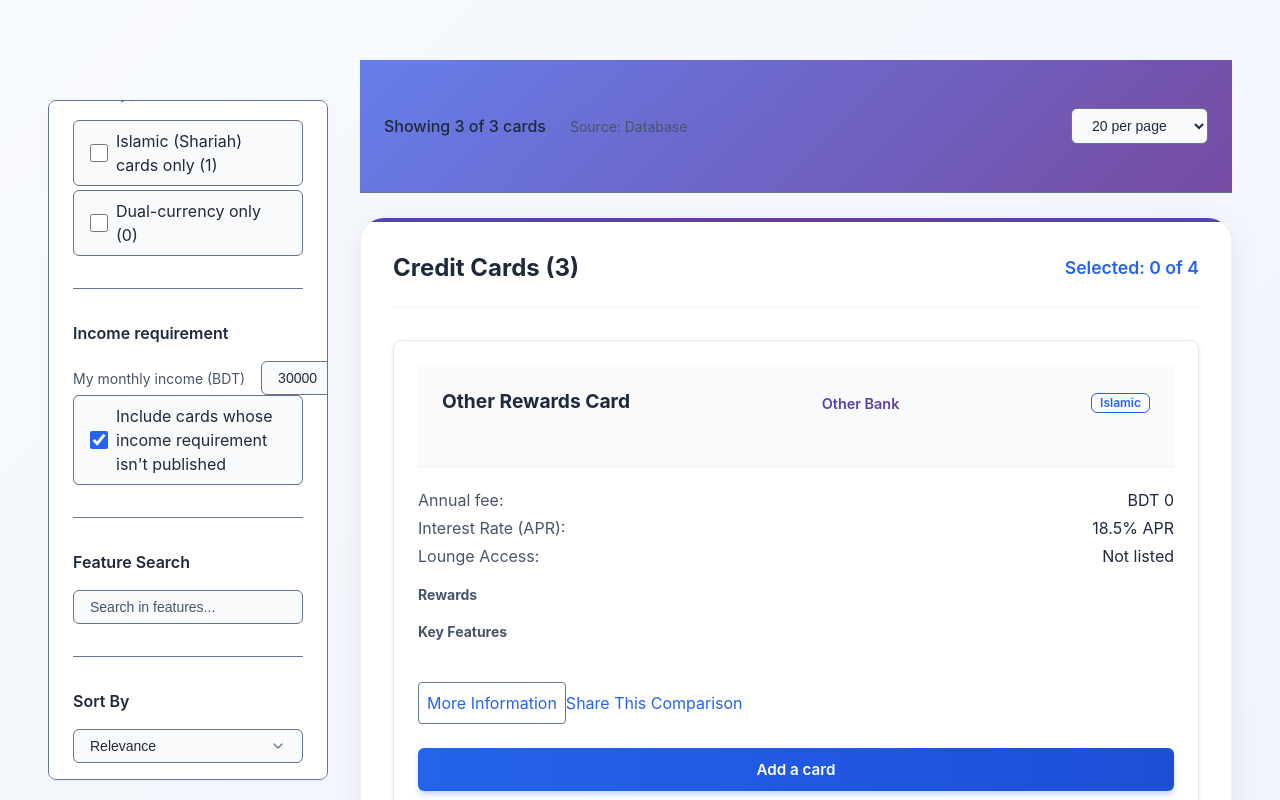
it: AdvancedSearchPage › card network, Islamic, dual-currency and income filters › filters by income and honors the include-unknown checkbox
The width and height of the screenshot is (1280, 800).
(page scrolled)
Check: the heading "Other Rewards Card" is shown, box [442,389,630,414]
Click the checkbox labelled "Include cards whose income requirement isn't published": (99, 440) [90,431,108,449]
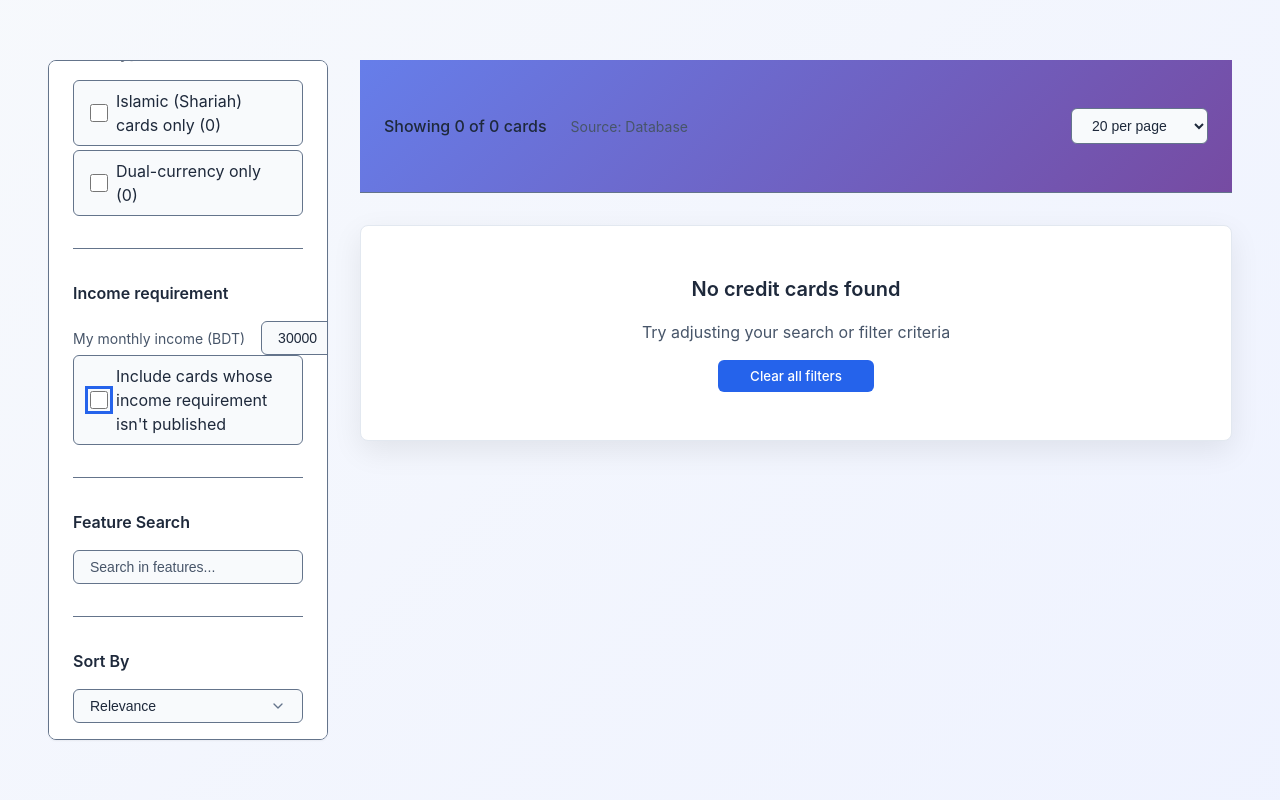
Check: the heading "Other Rewards Card" is gone
